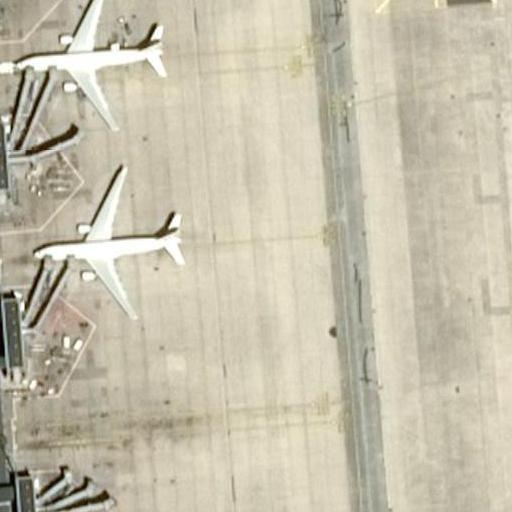Aircraft: (27, 170, 190, 309), (5, 0, 177, 123)
